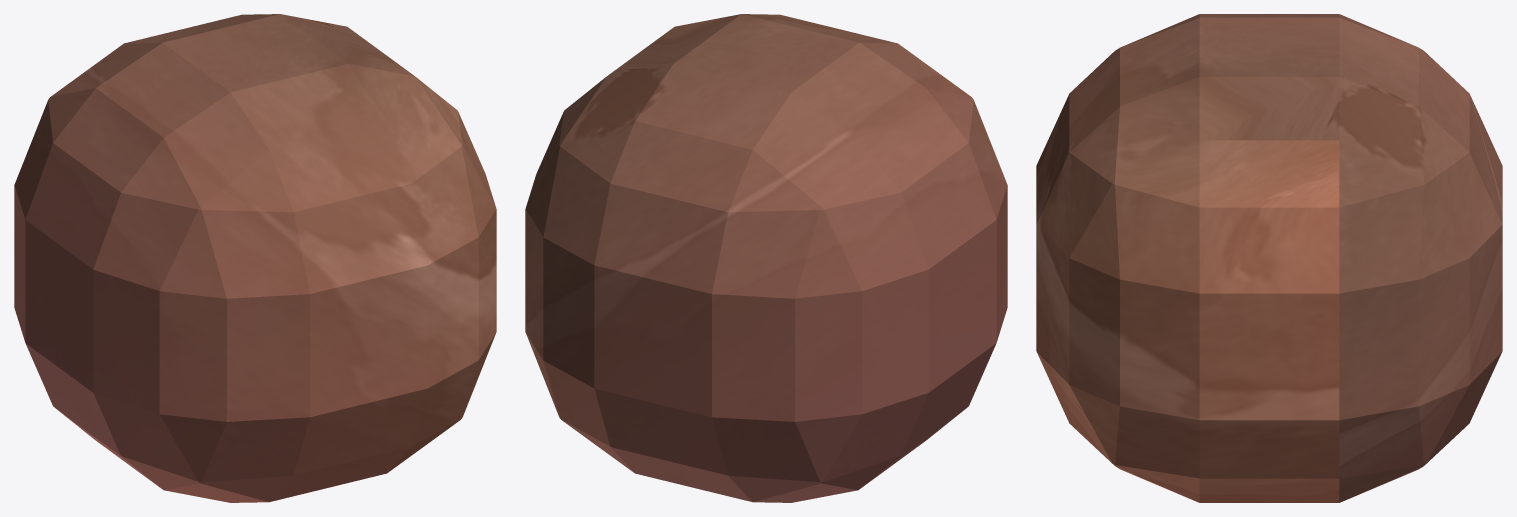
Rendered from Tile1_22.obj.
3 views of the same model, side by side, from view 1: azimuth 30°, elevation 25°; view 2: azimuth 150°, elevation 25°; view 3: azimuth 270°, elevation 25° (orthographic). The views are drawn at different scales.
Visible parts, largest first — view 1: Cube; view 2: Cube; view 3: Cube.
Boxes of the visible parts, <box> form: Cube: <box>14,14,496,502</box>; Cube: <box>525,14,1007,502</box>; Cube: <box>1036,14,1502,502</box>.
Size of the model in its own units: 2 by 2 by 2.
1 material, 1 textured.
